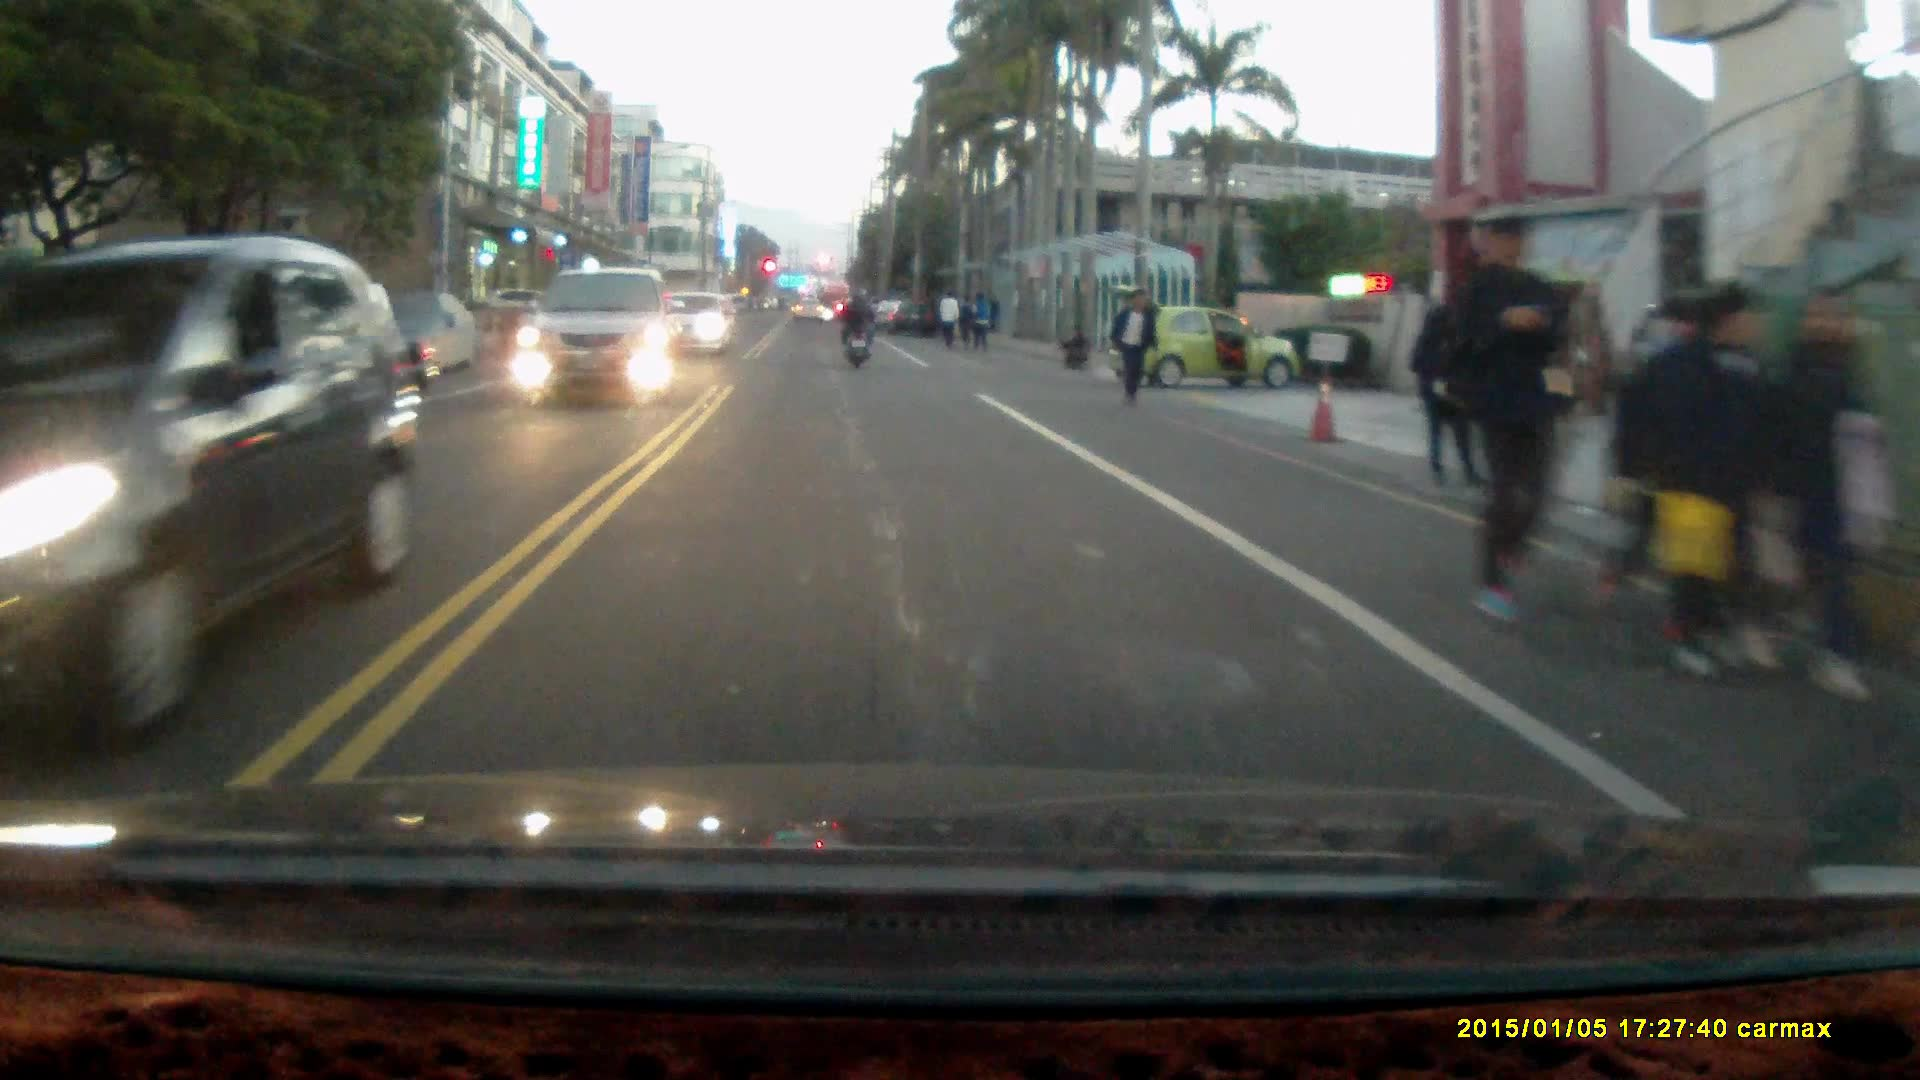pedestrian: (1641, 274, 1779, 688), (1456, 209, 1579, 629), (1766, 287, 1874, 700), (1406, 302, 1481, 494), (1108, 287, 1158, 407), (967, 288, 993, 353), (1057, 322, 1090, 370), (937, 286, 959, 351)
rider: (836, 287, 875, 369)
vehicle: (3, 232, 445, 680), (512, 268, 685, 402), (1109, 281, 1299, 391), (650, 290, 735, 357)
